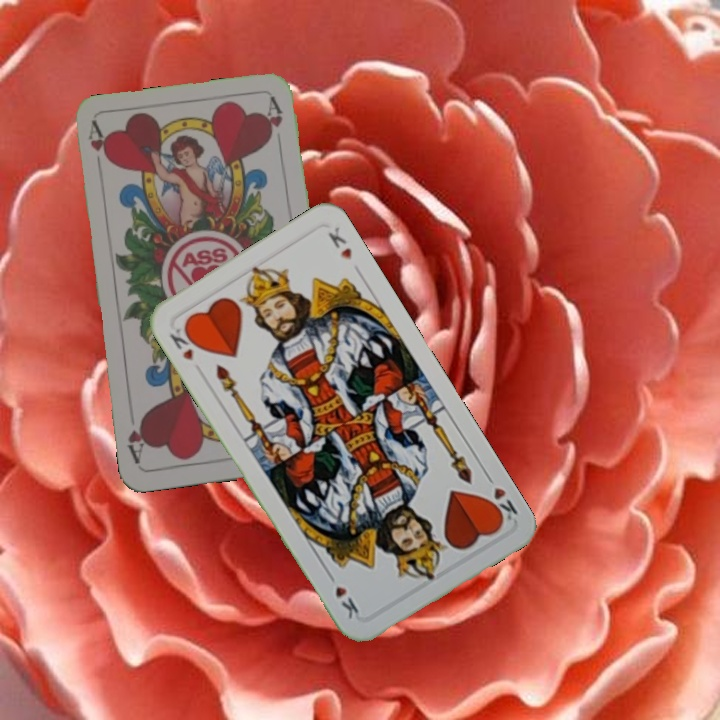HA: (83, 120, 112, 179)
HK: (482, 483, 520, 526), (165, 322, 202, 364)
